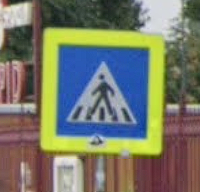trecere_pietoni: (42, 27, 164, 156)
